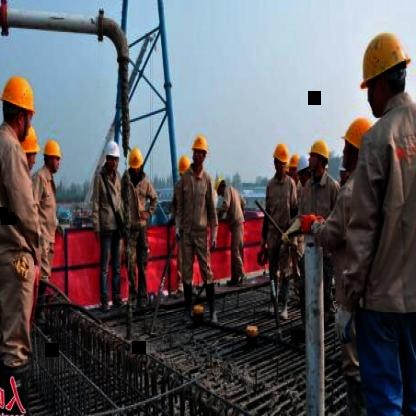helmet: (356, 21, 412, 119), (0, 70, 38, 146), (340, 112, 374, 169), (308, 134, 332, 182), (18, 122, 38, 174), (42, 137, 62, 183), (190, 135, 208, 169), (127, 144, 145, 176), (295, 154, 313, 186), (275, 141, 289, 174), (106, 137, 120, 169), (211, 172, 228, 197)
